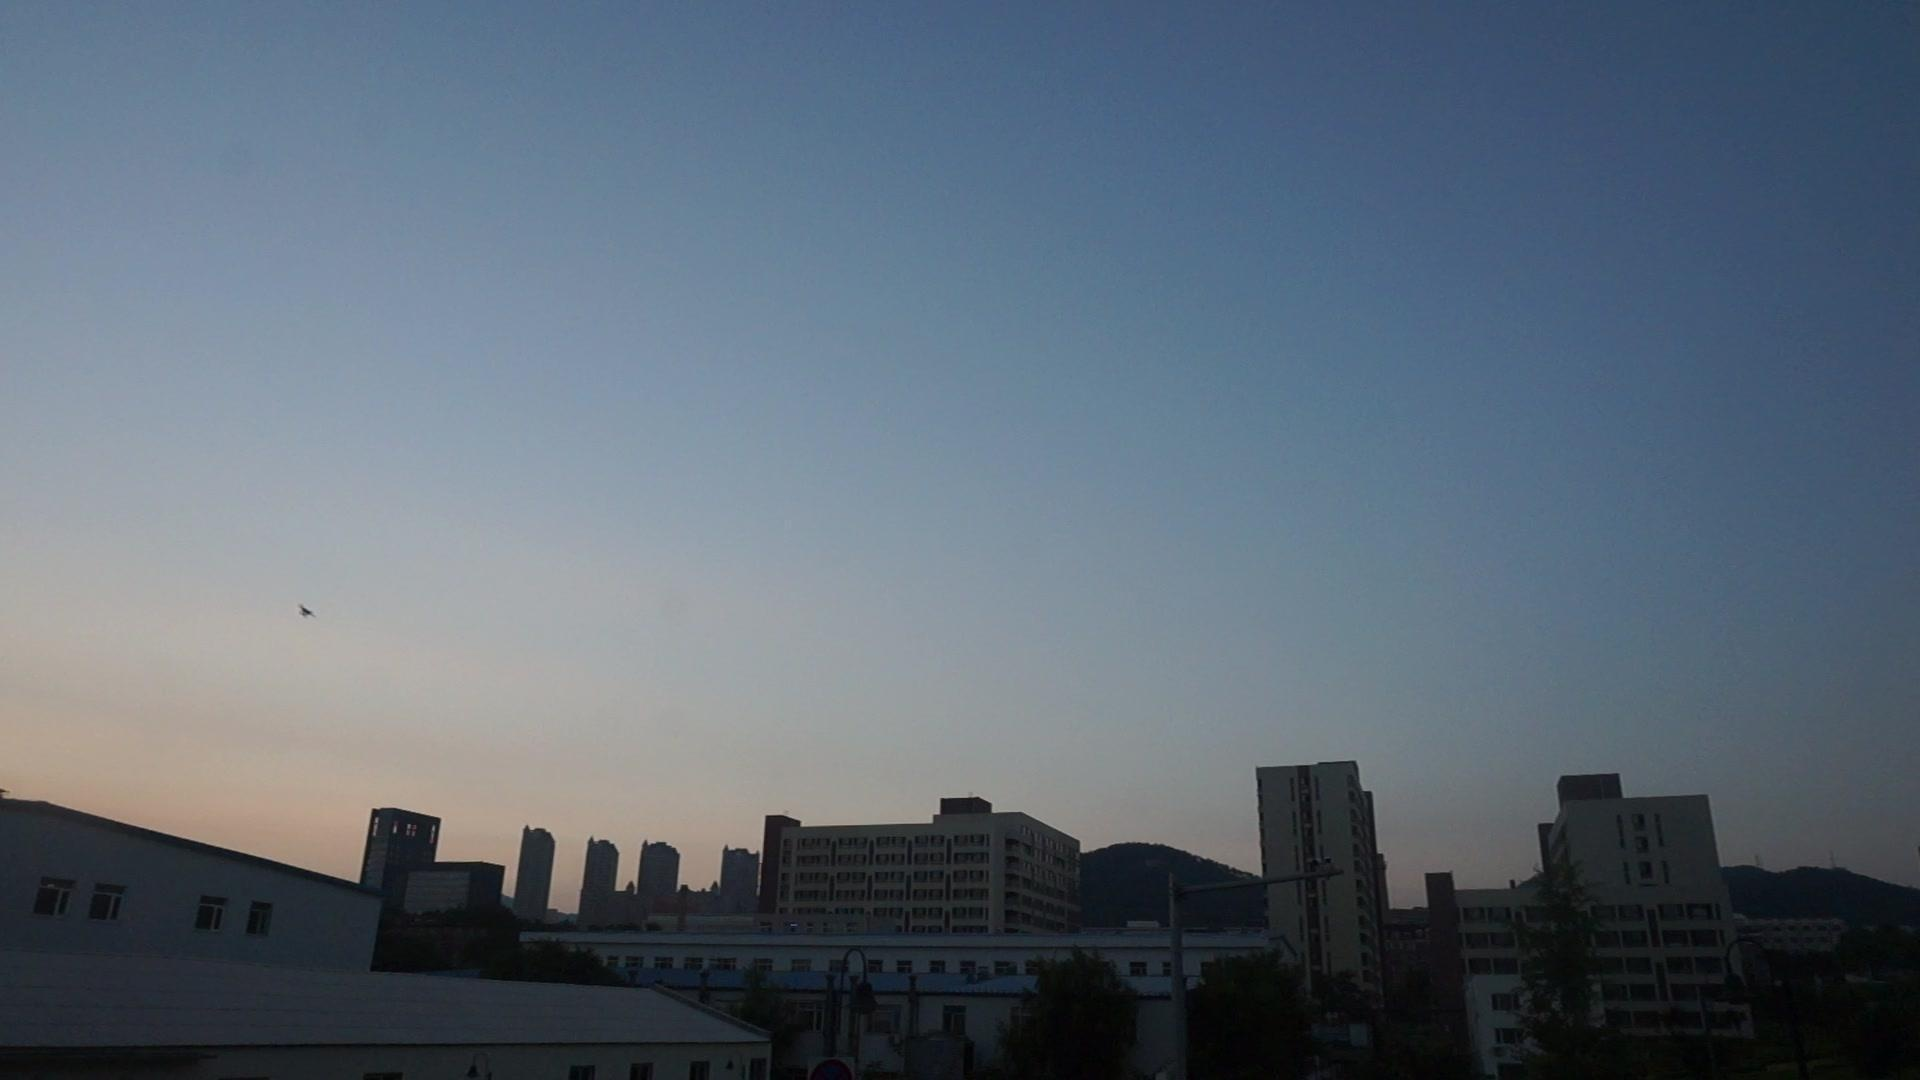UAV: (298, 603, 316, 618)
